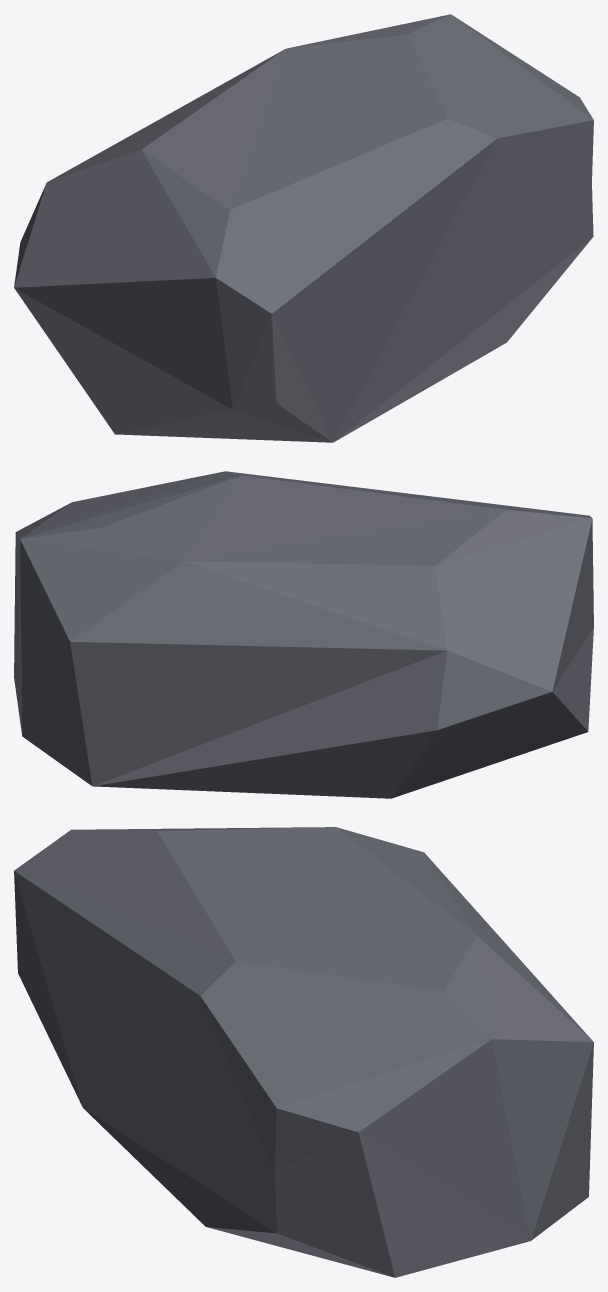
Rendered from rock_06.FBX.
3 views of the same model, one above another, from view 1: azimuth 30°, elevation 25°; view 2: azimuth 150°, elevation 25°; view 3: azimuth 270°, elevation 25° (orthographic). The views are drawn at different scales.
Visible parts, largest first — view 1: rock_06; view 2: rock_06; view 3: rock_06.
Part boxes in pixels (x1,y1,x2,y2): rock_06: (14,14,593,442); rock_06: (14,471,593,798); rock_06: (14,827,593,1277).
Size of the model in its own units: 5.63 by 2.12 by 4.56.
